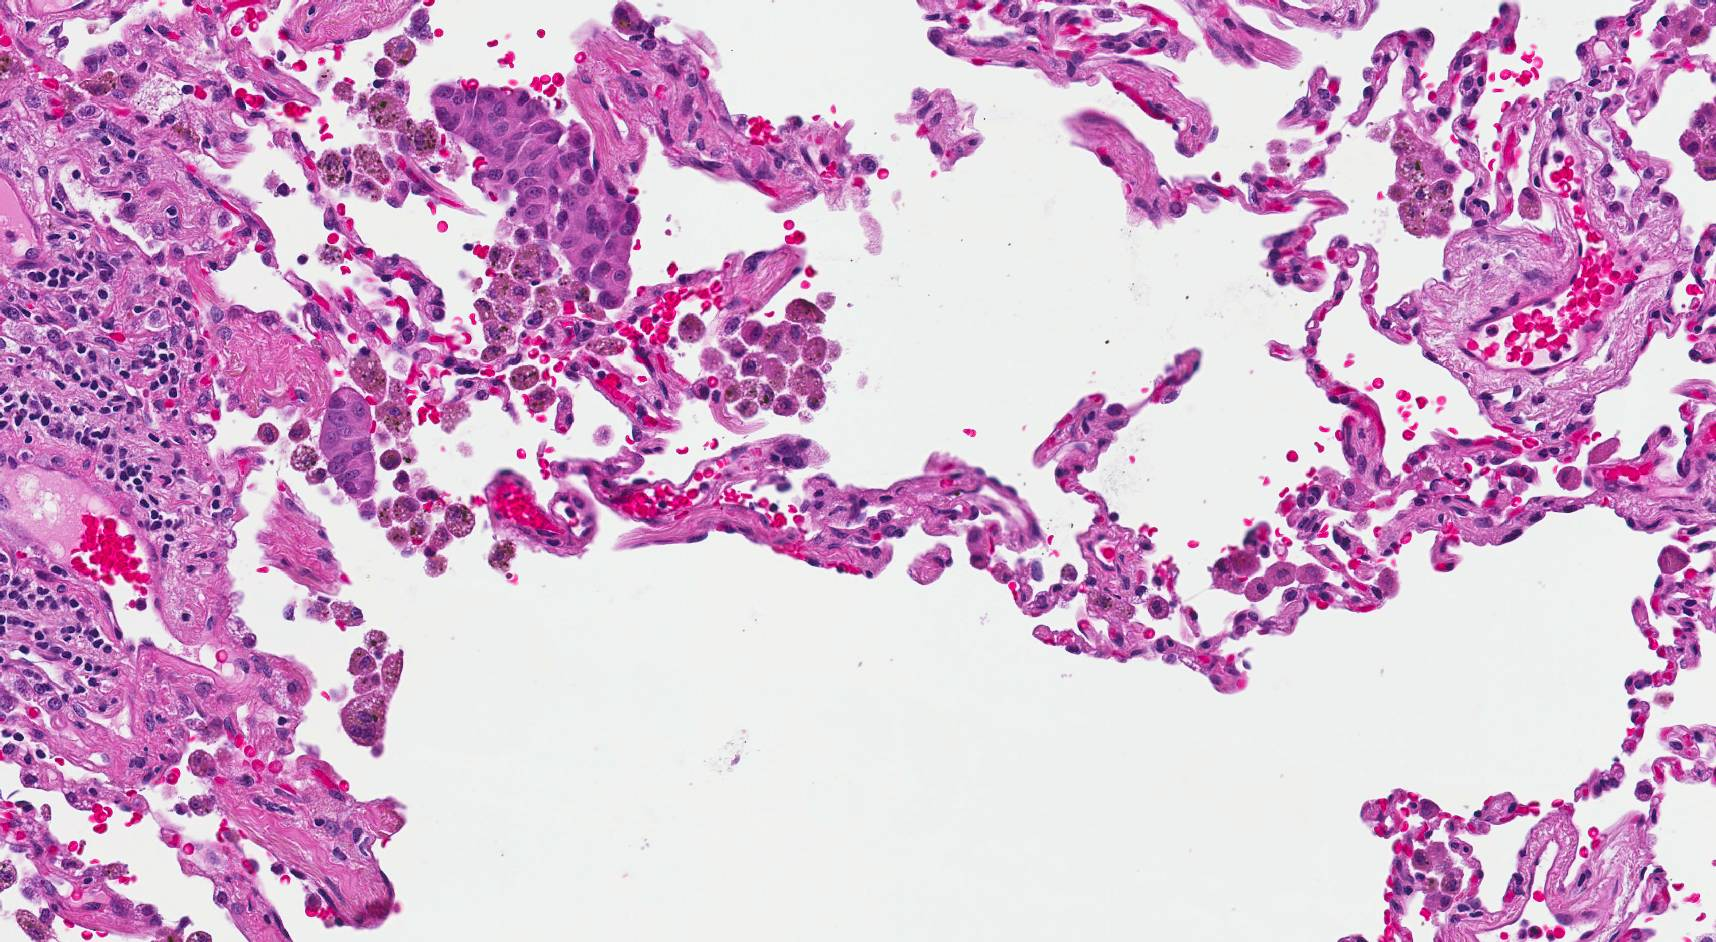stas: (429, 82, 642, 309), (318, 387, 372, 518)
